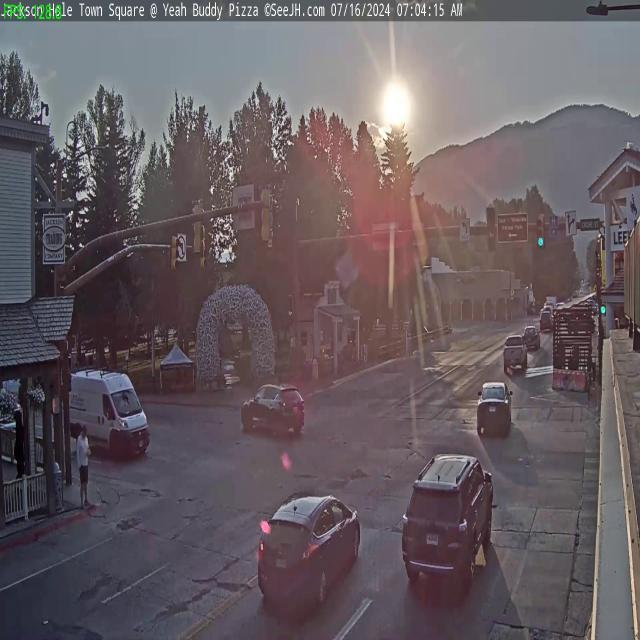person: (77, 426, 89, 506)
pickup: (502, 334, 529, 371)
sedan: (254, 490, 364, 624), (476, 378, 513, 436)
suv: (400, 446, 498, 602), (240, 382, 305, 440)
traffic light: (260, 184, 274, 244), (190, 198, 203, 254), (486, 207, 496, 252), (171, 231, 179, 274), (536, 214, 546, 248)
van: (61, 366, 150, 468)
